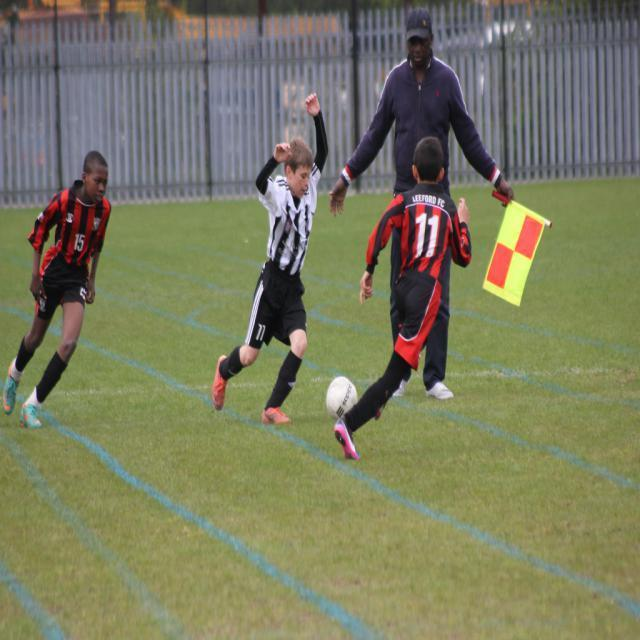football: (295, 368, 399, 425)
